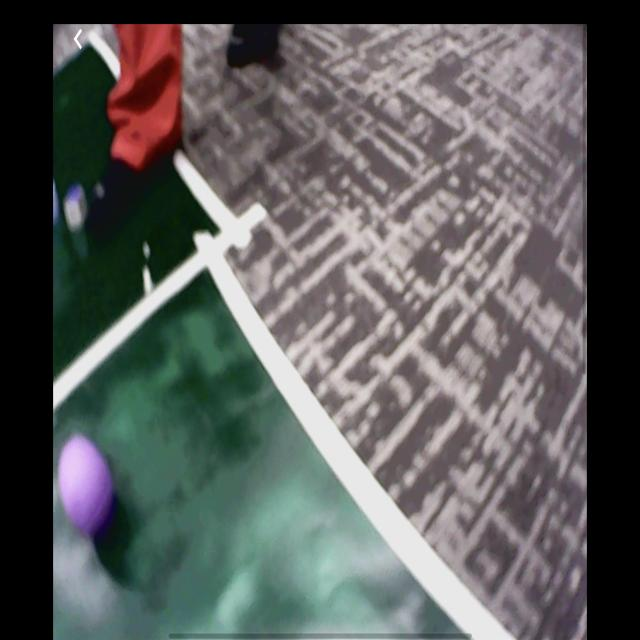ball: (59, 437, 114, 536)
